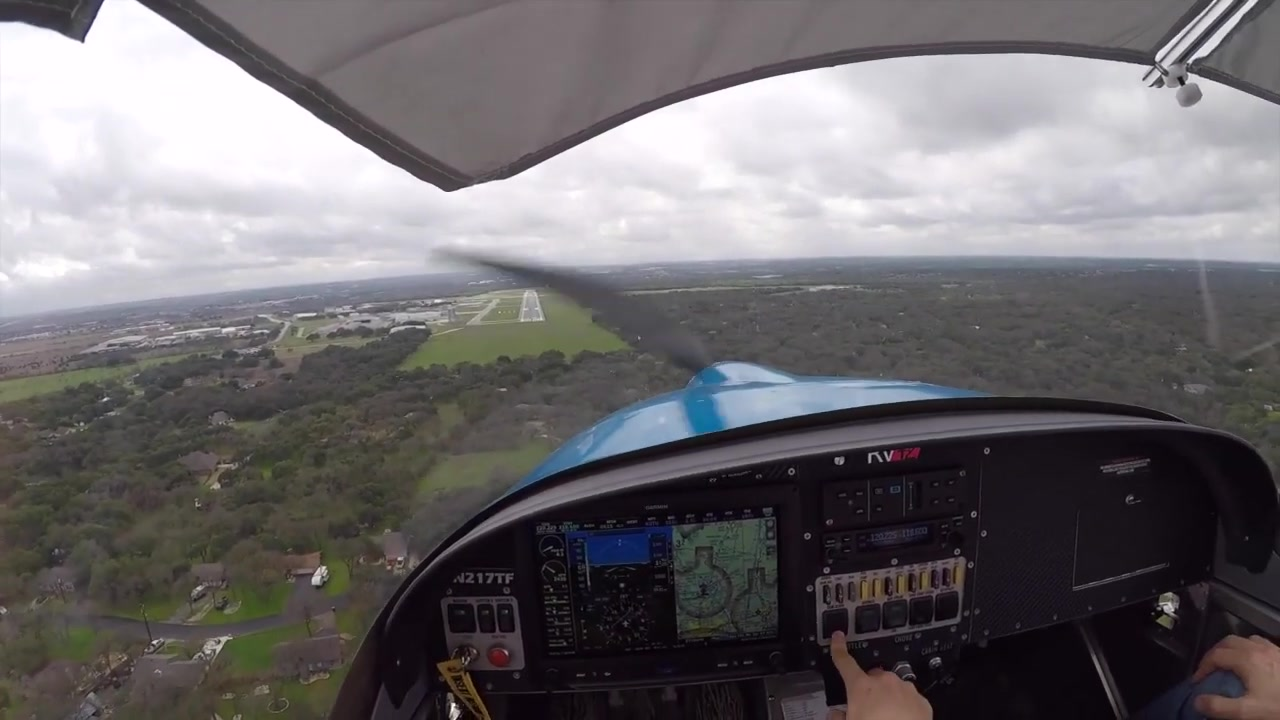runway: (516, 288, 547, 325)
